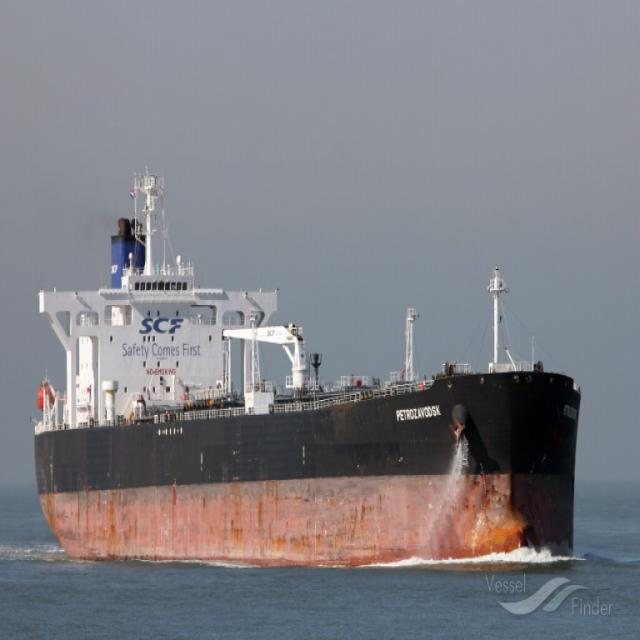OCR: (379, 396, 445, 424), (142, 313, 183, 342)
